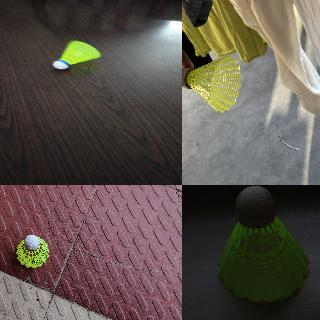shuttlecock: (218, 186, 308, 302), (182, 56, 241, 113), (52, 40, 98, 70), (16, 234, 48, 268)
